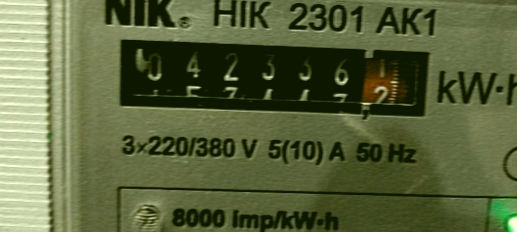0: (144, 48, 164, 82)
1: (374, 52, 387, 78)
2: (220, 47, 242, 82), (370, 83, 388, 104)
3: (257, 48, 276, 81), (296, 49, 314, 82)
4: (184, 46, 202, 78)
6: (331, 53, 352, 88)
screen: (104, 23, 443, 129)
